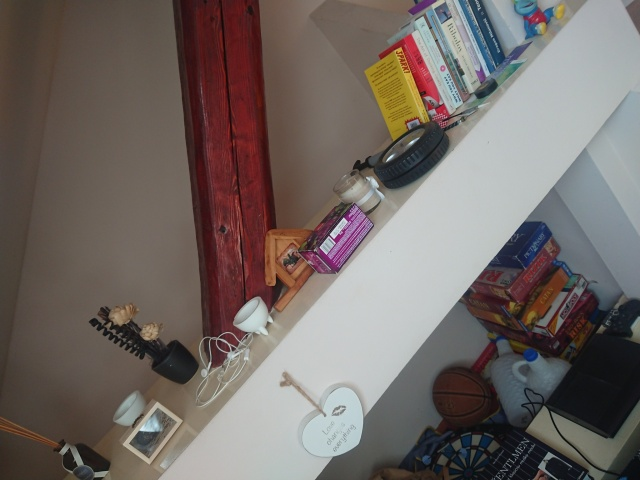Franck Black Currant Tea 60g: (295, 199, 377, 277)
